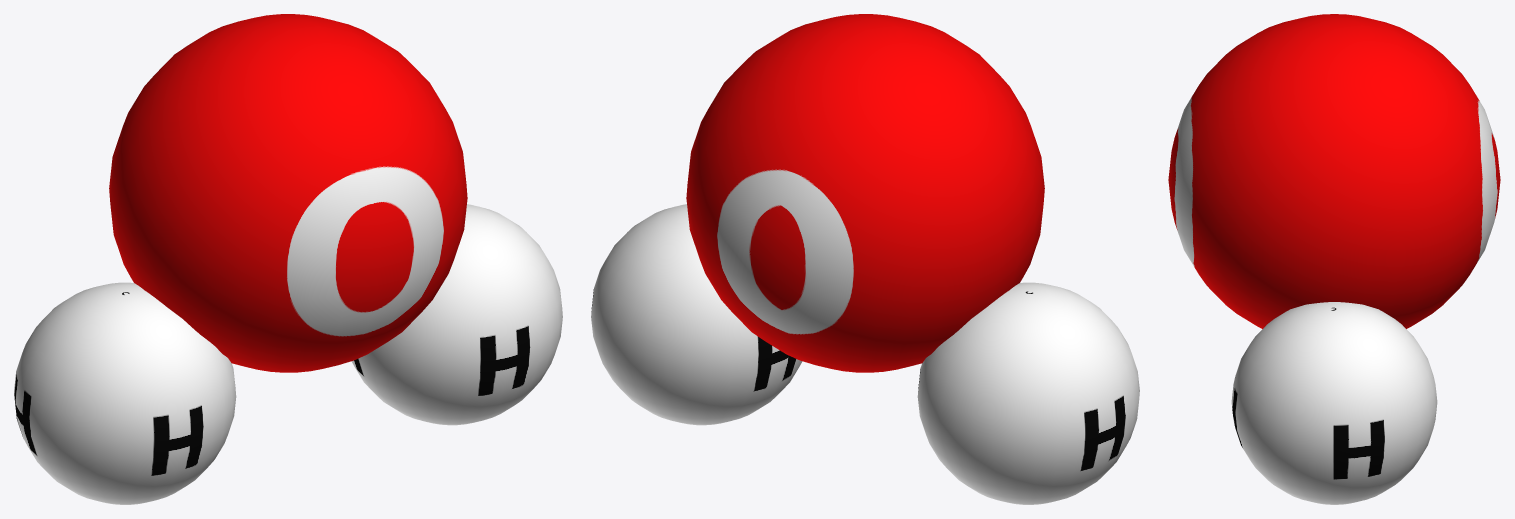
3 renders of one model, left to right at view 1: azimuth 30°, elevation 25°; view 2: azimuth 150°, elevation 25°; view 3: azimuth 270°, elevation 25°, orthographic. The views are drawn at different scales.
Visible parts, largest first — view 1: H2O, H2O_left.001, H2O_left.002; view 2: H2O, H2O_left.001, H2O_left.002; view 3: H2O, H2O_left.002.
Part boxes in pixels (box(x1,y1,x2,y2)): H2O: box(109, 14, 467, 372); H2O_left.001: box(14, 282, 236, 504); H2O_left.002: box(351, 204, 562, 425); H2O: box(686, 14, 1044, 372); H2O_left.001: box(917, 282, 1139, 504); H2O_left.002: box(591, 204, 802, 425); H2O: box(1168, 14, 1500, 328); H2O_left.002: box(1231, 302, 1437, 504).
Size of the model in its own units: 539 by 420 by 323.
2 materials, 2 textured.
